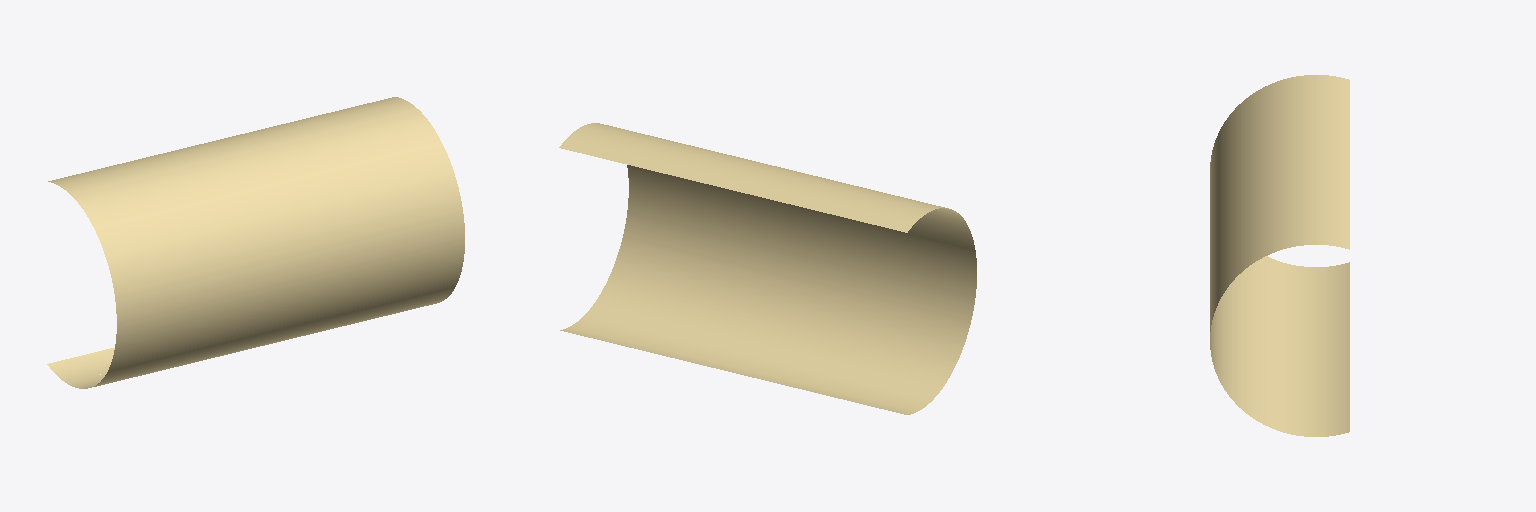
The model's file is Cubierta_Invernadero.obj.
3 views of the same model, side by side, from view 1: azimuth 30°, elevation 25°; view 2: azimuth 150°, elevation 25°; view 3: azimuth 270°, elevation 25° (orthographic).
Visible parts, largest first — view 1: mesh0; view 2: mesh0; view 3: mesh0.
Boxes of the visible parts, x1=… form: mesh0: x1=47, y1=97, x2=464, y2=388; mesh0: x1=559, y1=123, x2=976, y2=414; mesh0: x1=1210, y1=75, x2=1349, y2=436.
Size of the model in its own units: 6 by 3.17 by 2.09.